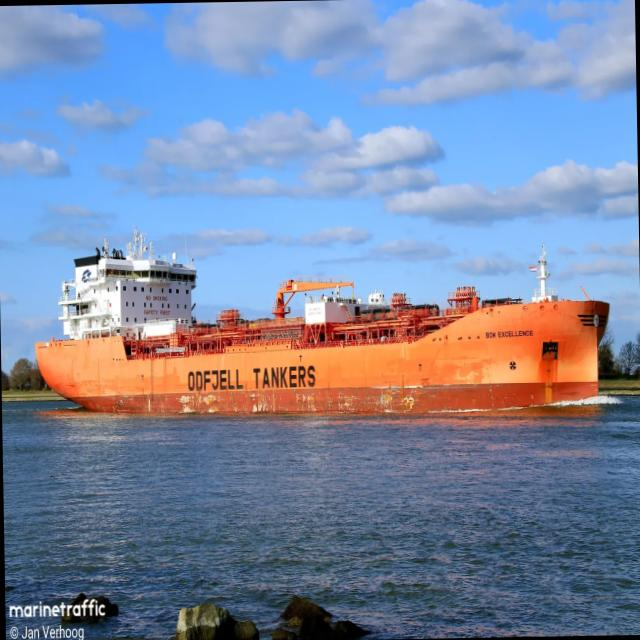Tanker: (35, 228, 609, 411)
